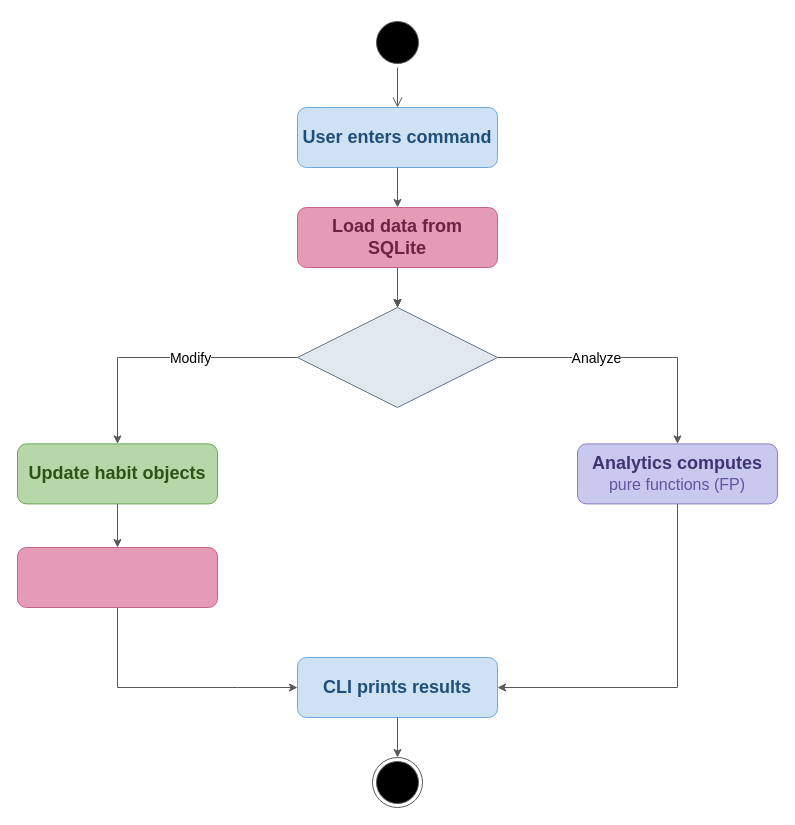
This 795x825 diagram has some shape labels left out. Each missing label, with the centre of its shape:
"Command type?" belongs at (397,357).
"Write to SQLite" belongs at (117,577).
